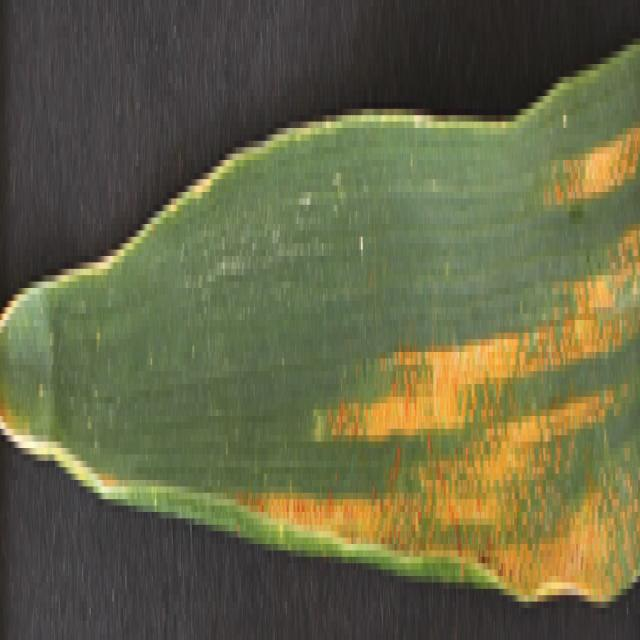leaf rust: (250, 38, 640, 640)
